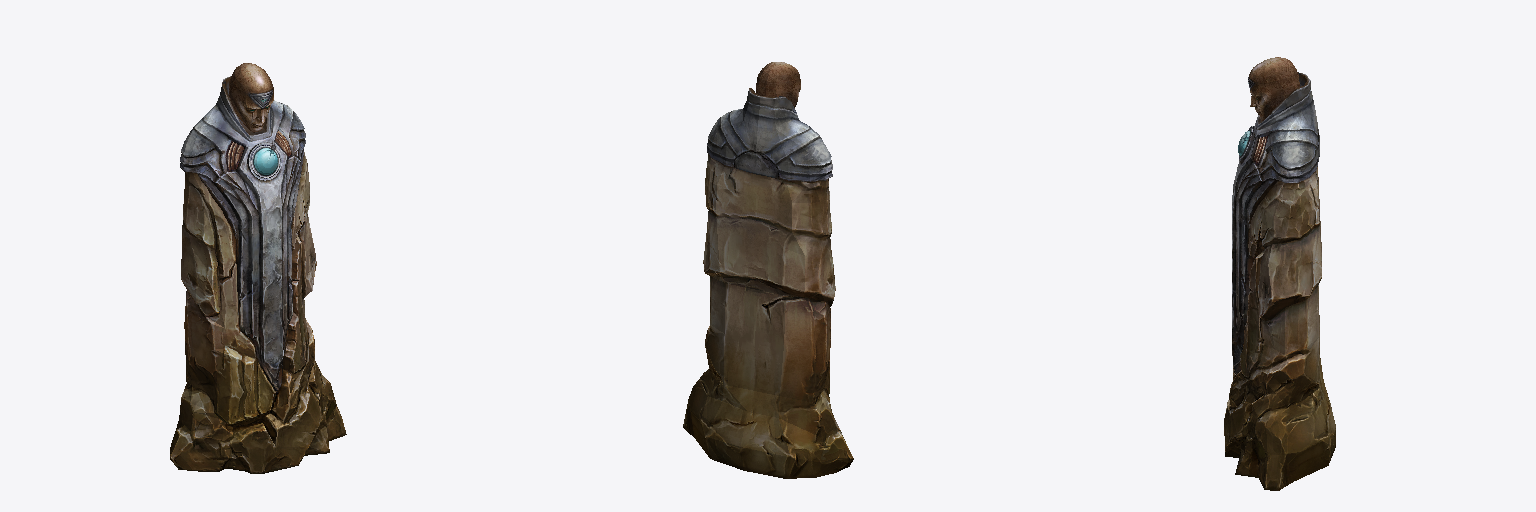
3 renders of one model, left to right at view 1: azimuth 30°, elevation 25°; view 2: azimuth 150°, elevation 25°; view 3: azimuth 270°, elevation 25°, orthographic.
Visible parts, largest first — view 1: Object001r003; view 2: Object001r003; view 3: Object001r003.
Boxes of the visible parts, box(x1,y1,x2,y2) form: Object001r003: box(170, 63, 346, 473); Object001r003: box(683, 62, 853, 478); Object001r003: box(1224, 57, 1335, 490).
Bounding box in the file's own units: 2.6 × 5.57 × 1.46.
Materials: 1 (1 with a texture image).